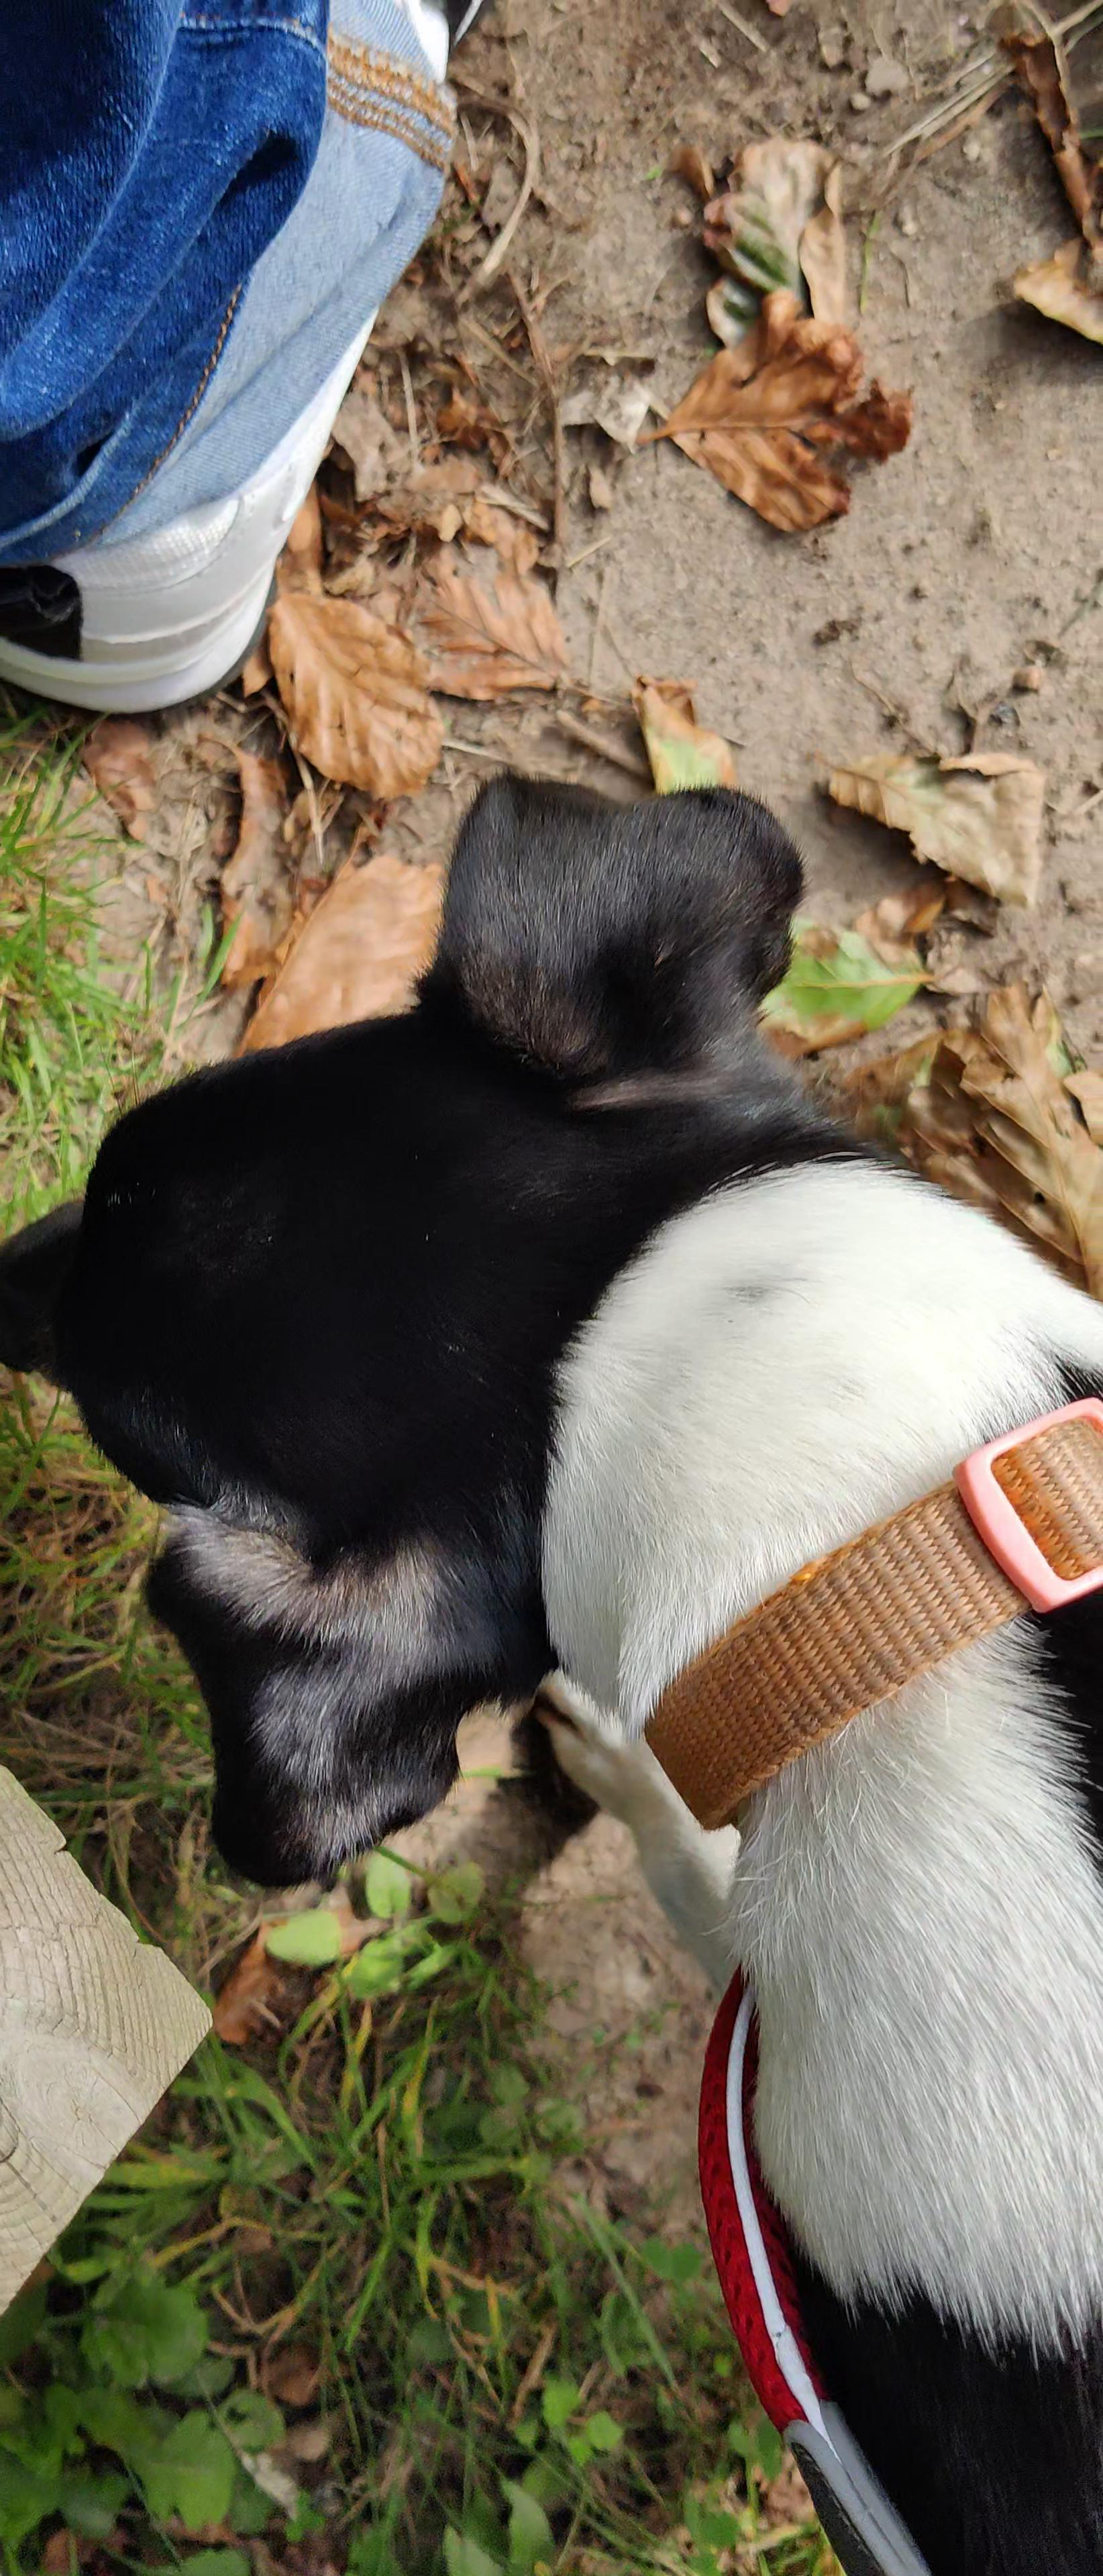Dog: (0, 762, 1103, 2576)
